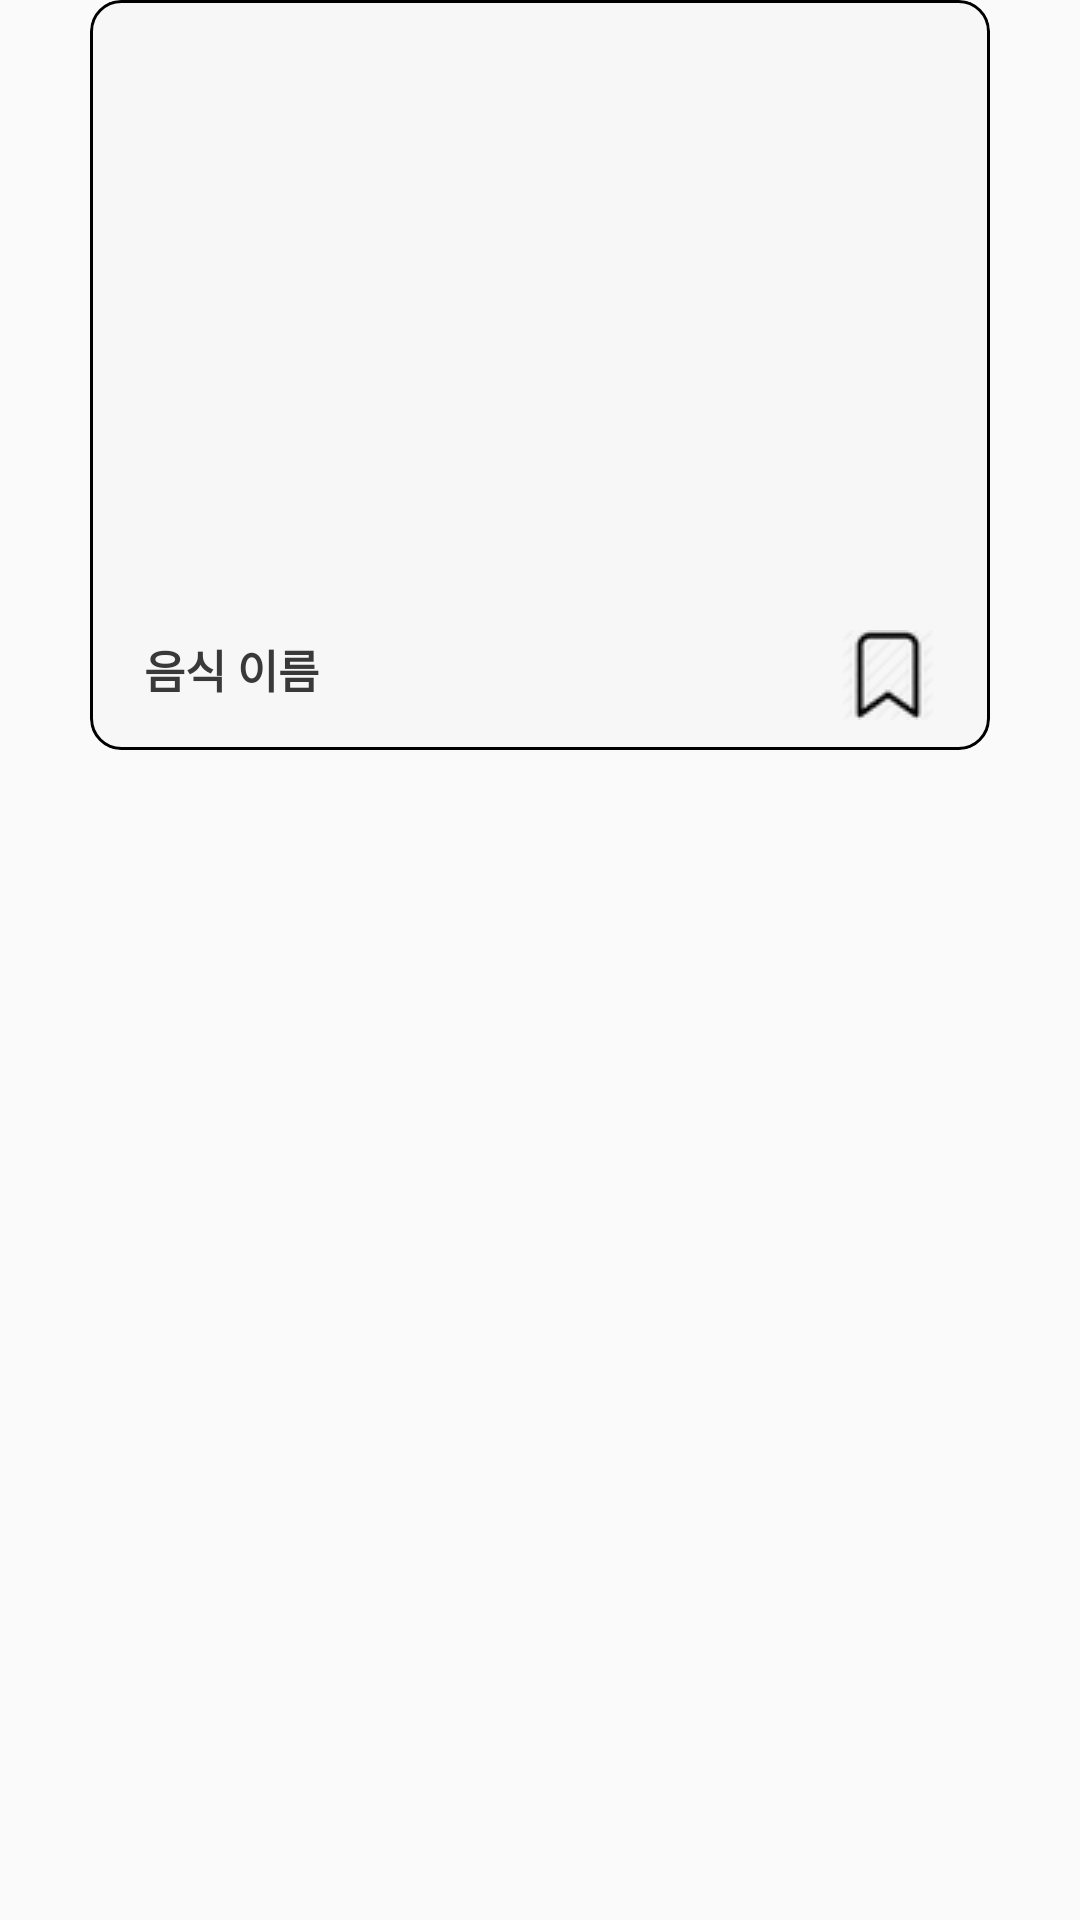

Icon click points for this 1080x1920 phone screenshot, format [x,y]:
saved: [888,675]
